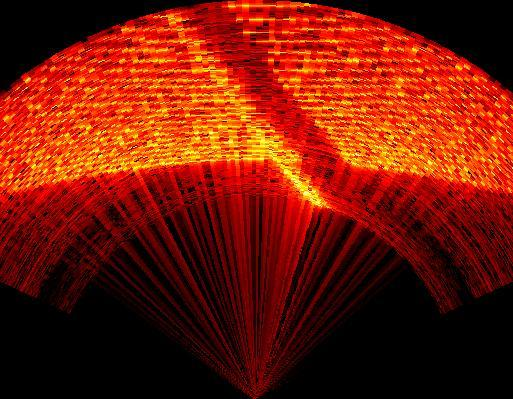pipe: (164, 7, 361, 213)
